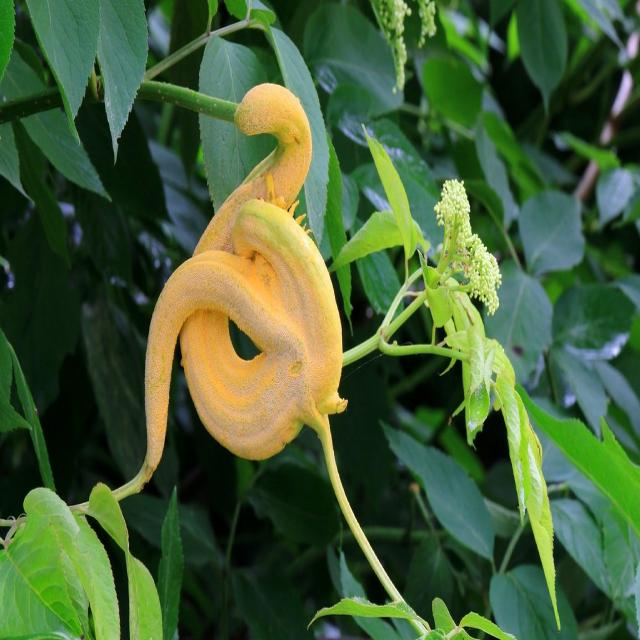Elderberry_rust: (140, 80, 350, 497)
